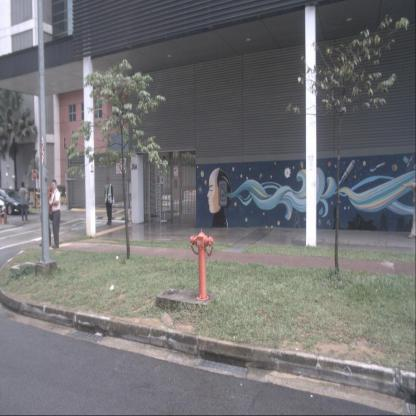cone: (3, 208, 9, 224), (0, 208, 4, 225), (63, 196, 66, 206)
